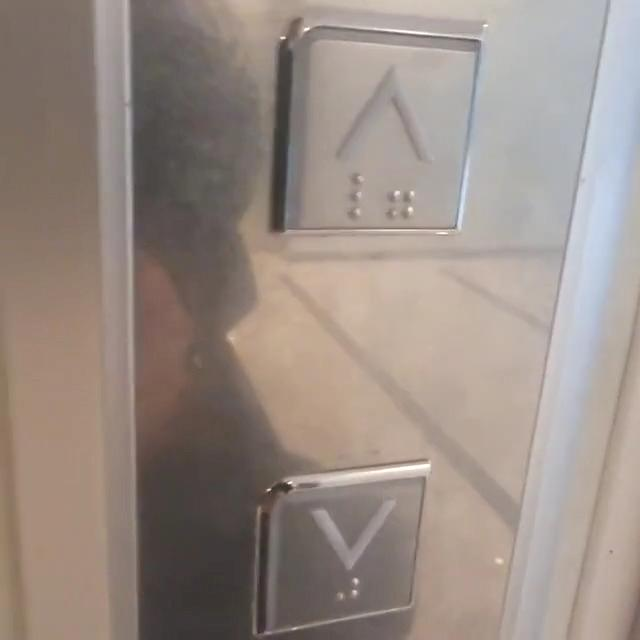button: (277, 32, 471, 232), (272, 475, 419, 628)
